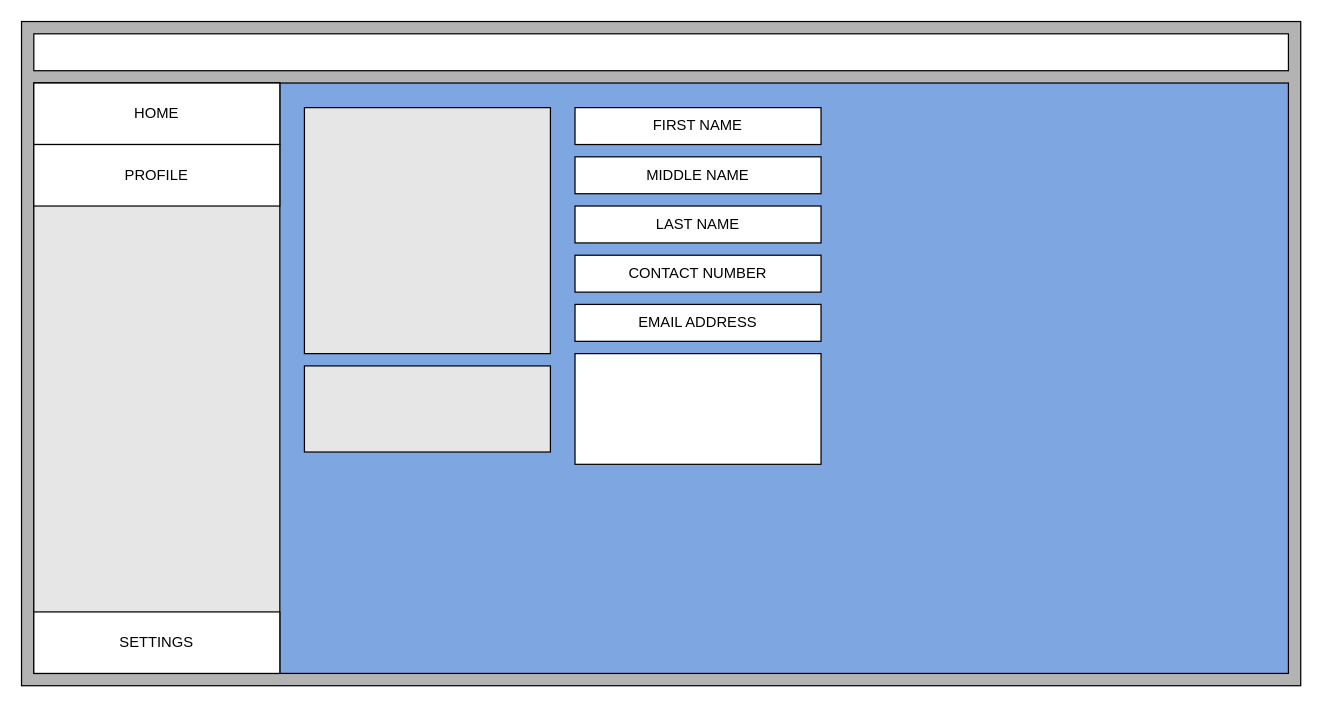
The diagram is 1322 pixels wide and 707 high, and some of its shapes have lost their labels. The box of each missing label's shape, as (x1, y1, x2, y2) in pixels:
HTTPS://ANGUALR-DRIVEN-PAGE.COM/: (33, 33, 1288, 71)
OTHERS: (574, 352, 821, 464)
PROFILE PICTURE: (303, 106, 550, 354)
